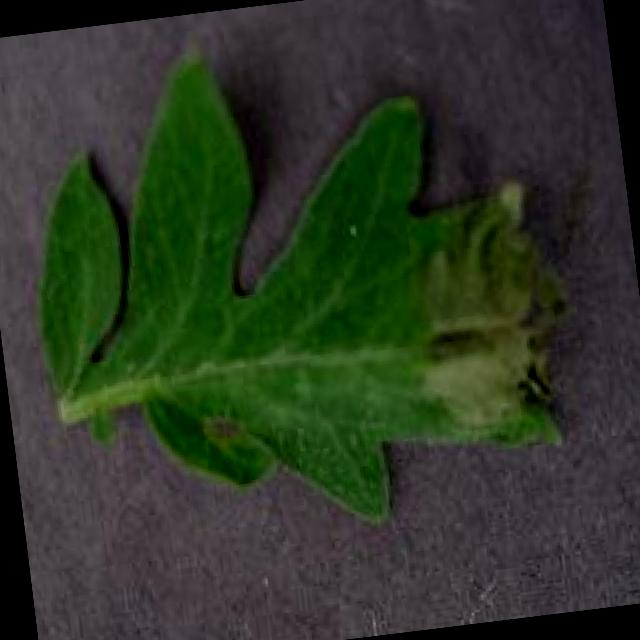leaf blight: (38, 36, 567, 524)
